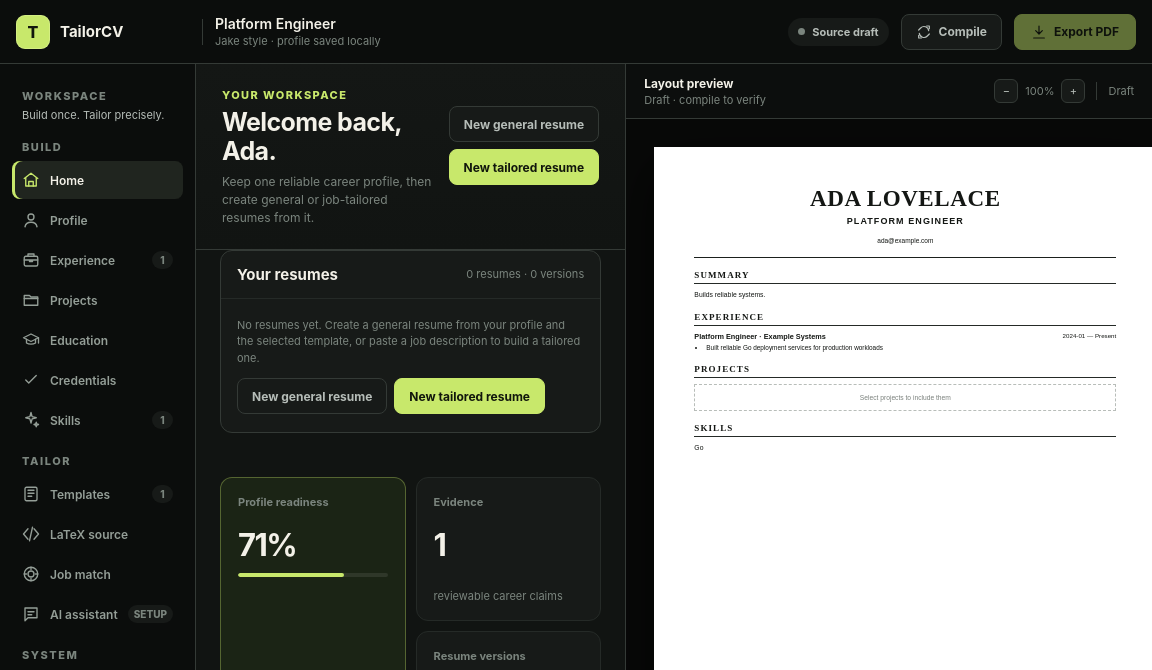
App Wails workflow integration › operates PDF preview controls from the keyboard
Click the button "LaTeX source": (98, 534) [12,515,183,553]
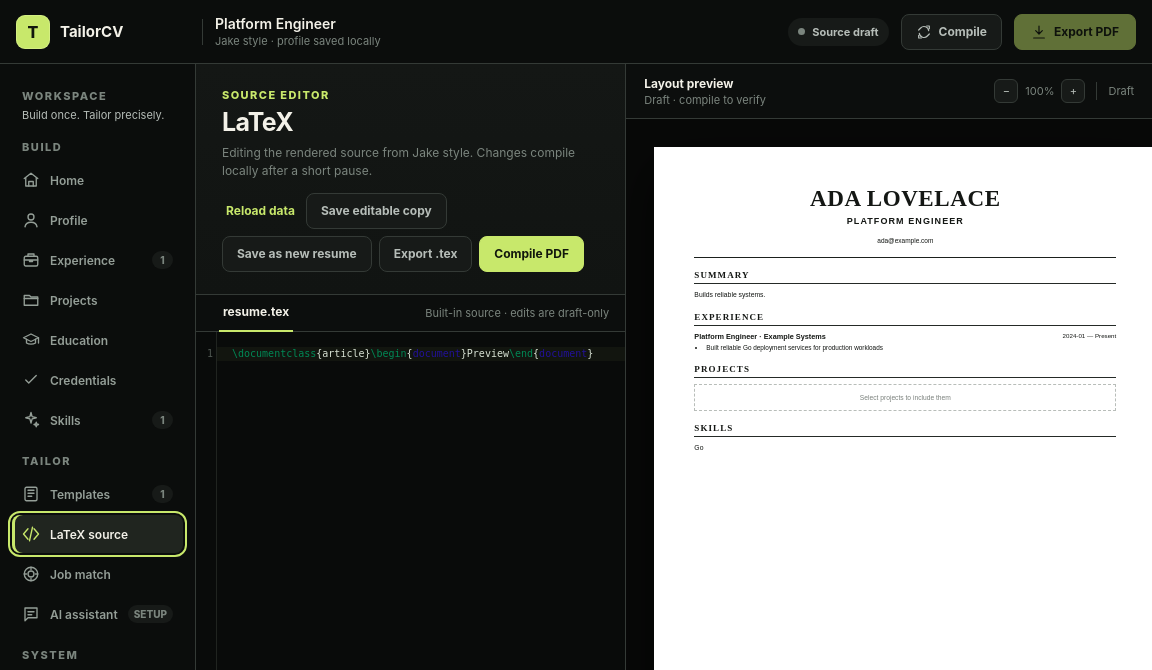
Click the button "Compile PDF": (532, 254) [479,236,584,272]
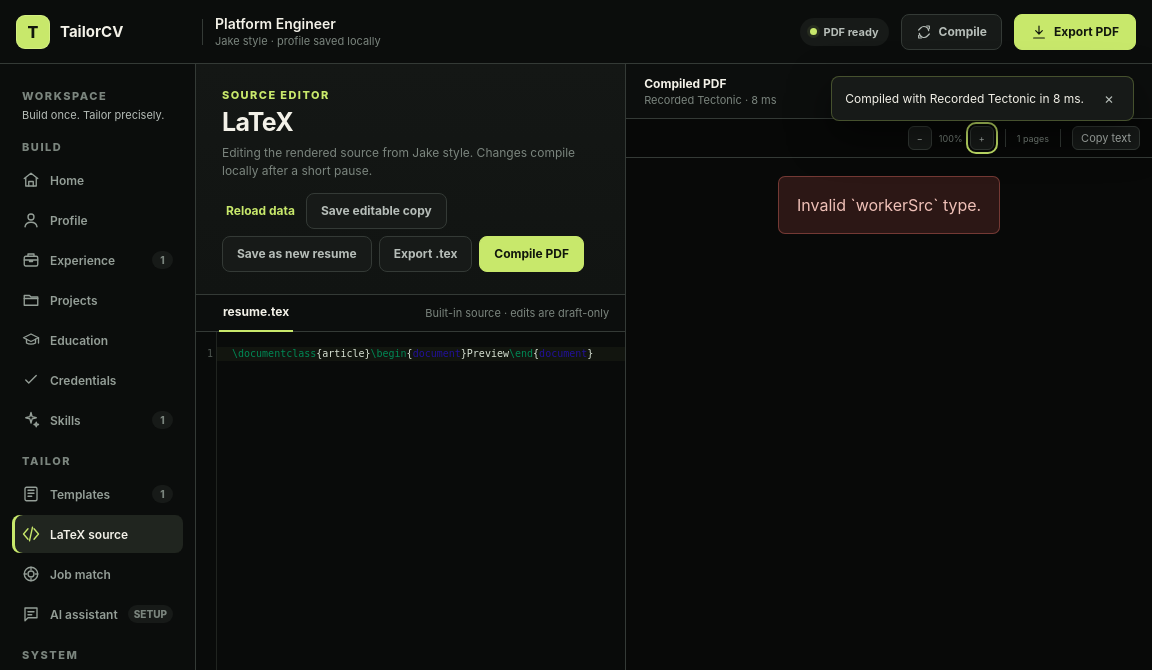
Expected: the element named "PDF preview controls" shows "100%", [626,119,1151,158]
Press Enter
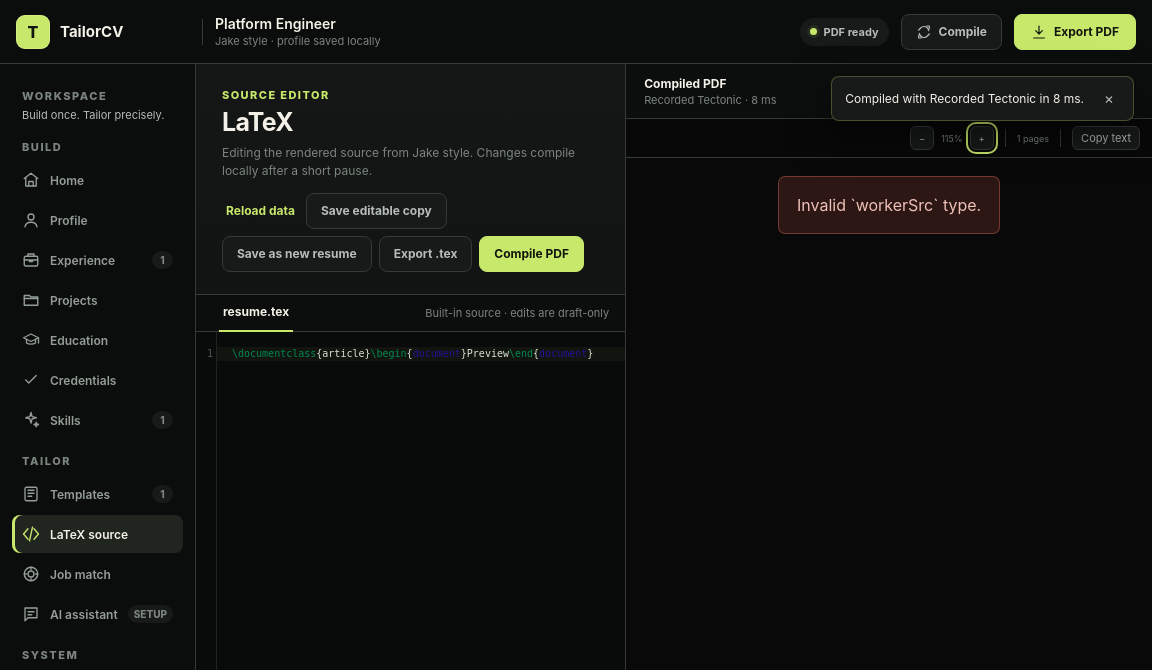
Expected: the element named "PDF preview controls" shows "115%", [626,119,1151,158]
